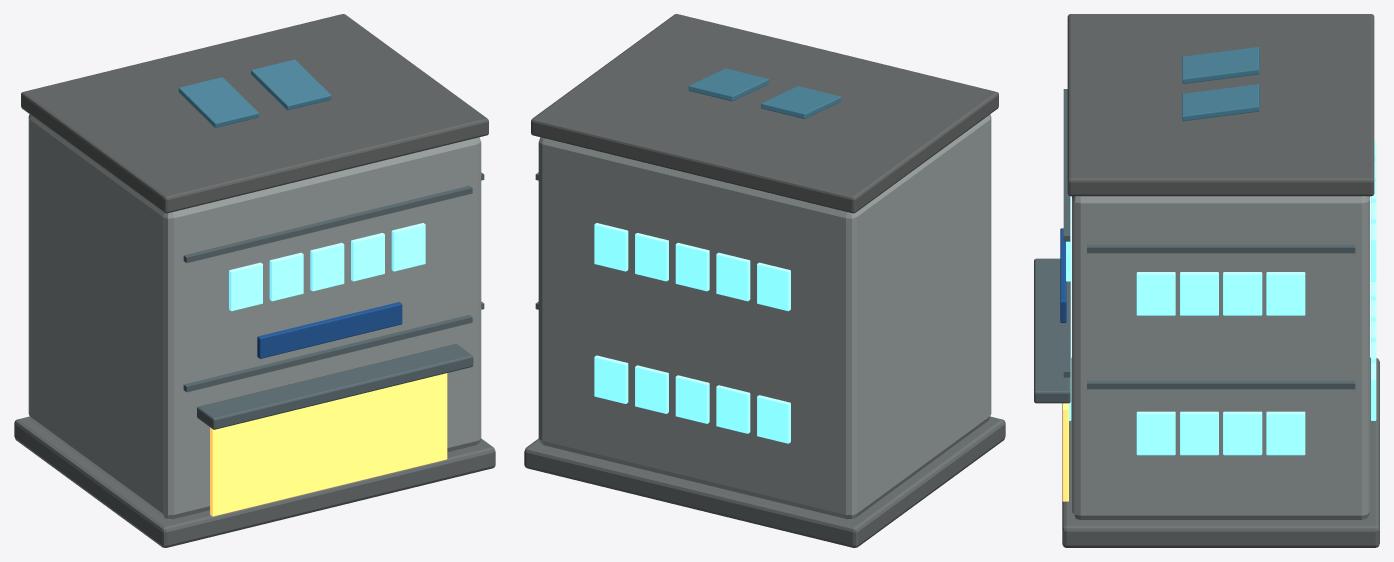
Rendered from commercial_mall.glb.
The picture shows the model from 3 angles, left to right: view 1: azimuth 30°, elevation 25°; view 2: azimuth 150°, elevation 25°; view 3: azimuth 270°, elevation 25°; orthographic projection. The views are drawn at different scales.
Visible parts, largest first — view 1: main_massing, roof_slab, storefront_glazing, foundation, storefront_awning, shop_sign, facade_band_front.001, facade_band_front, roof_panel.001, roof_panel, front_window.007, front_window.009 (+3 smaller); view 2: main_massing, roof_slab, foundation, roof_panel.001, roof_panel, rear_window.001, rear_window.002, rear_window.007, rear_window.009, rear_window.004, rear_window.006, rear_window (+3 smaller); view 3: main_massing, roof_slab, foundation, storefront_awning, facade_band_side, facade_band_side.001, roof_panel.001, roof_panel, side_window, side_window.003, side_window.001, side_window.004 (+8 smaller).
Part boxes in pixels (x1,y1,x2,y2): main_massing: (28,114,481,519); roof_slab: (21,14,488,213); storefront_glazing: (210,373,447,516); foundation: (14,416,495,547); storefront_awning: (197,344,473,429); shop_sign: (257,302,402,358); facade_band_front.001: (183,185,472,262); facade_band_front: (183,315,472,392); roof_panel.001: (251,59,331,110); roof_panel: (178,77,258,127); front_window.007: (310,242,344,291); front_window.009: (391,223,425,271); main_massing: (538,114,991,519); roof_slab: (531,14,998,213); foundation: (524,416,1005,547); roof_panel.001: (688,68,768,101); roof_panel: (761,86,841,118); rear_window.001: (716,385,750,433); rear_window.002: (675,375,709,423); rear_window.007: (675,242,709,291); rear_window.009: (594,223,628,271); rear_window.004: (594,355,628,403); rear_window.006: (716,252,750,301); rear_window: (757,395,790,443); main_massing: (1072,196,1369,519); roof_slab: (1067,14,1374,196); foundation: (1062,357,1379,547); storefront_awning: (1034,258,1070,403); facade_band_side: (1087,380,1355,389); facade_band_side.001: (1087,244,1355,253); roof_panel.001: (1182,84,1259,121); roof_panel: (1182,47,1259,83); side_window: (1266,411,1305,455); side_window.003: (1136,411,1175,455); side_window.001: (1223,411,1262,455); side_window.004: (1266,272,1305,315).
Size of the model in its own units: 1.66 by 1.75 by 1.41.
